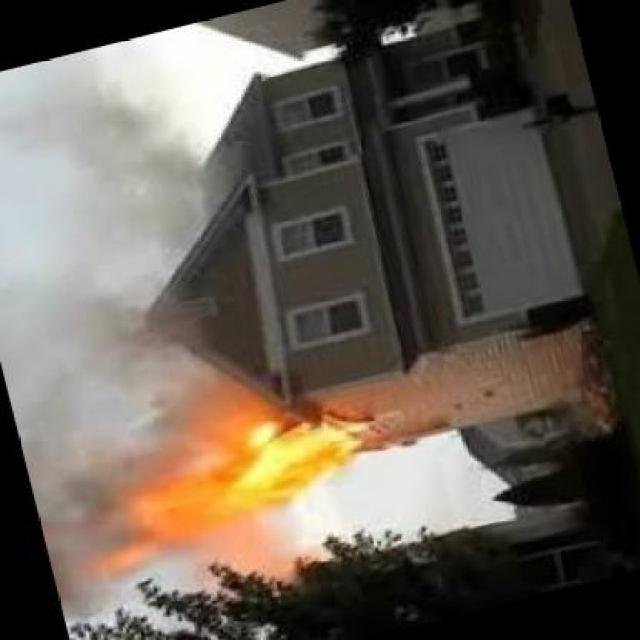Fire: (115, 410, 356, 548)
Smoke: (0, 72, 218, 412), (15, 417, 134, 617)
